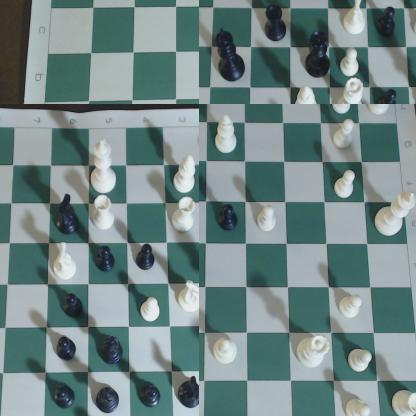black-bishop: (97, 335, 126, 368), (96, 384, 124, 415)
black-king: (216, 27, 247, 84)
black-knight: (54, 195, 82, 238), (180, 372, 199, 415)
black-pawn: (58, 288, 89, 325), (96, 244, 127, 277), (142, 381, 171, 416), (55, 382, 85, 415), (54, 336, 81, 372), (136, 245, 160, 277), (219, 203, 243, 235), (375, 9, 399, 40), (378, 91, 404, 104)
black-queen: (305, 30, 332, 79)
black-rook: (262, 4, 288, 46)
white-bishop: (171, 153, 199, 198), (214, 113, 239, 157), (214, 339, 241, 366), (292, 82, 321, 104)
white-king: (372, 190, 416, 236), (89, 140, 123, 196), (392, 388, 416, 416)
white-knight: (53, 241, 83, 284), (342, 1, 370, 36), (176, 274, 199, 314)
white-pawn: (135, 295, 165, 327), (332, 168, 359, 202), (257, 203, 282, 235), (348, 349, 379, 373), (341, 49, 363, 82), (333, 120, 357, 149), (344, 397, 377, 416), (332, 105, 358, 116)
white-queen: (298, 331, 331, 372), (335, 79, 365, 104)
white-rook: (170, 196, 199, 245), (91, 198, 120, 233), (335, 293, 368, 321), (369, 105, 397, 118)
